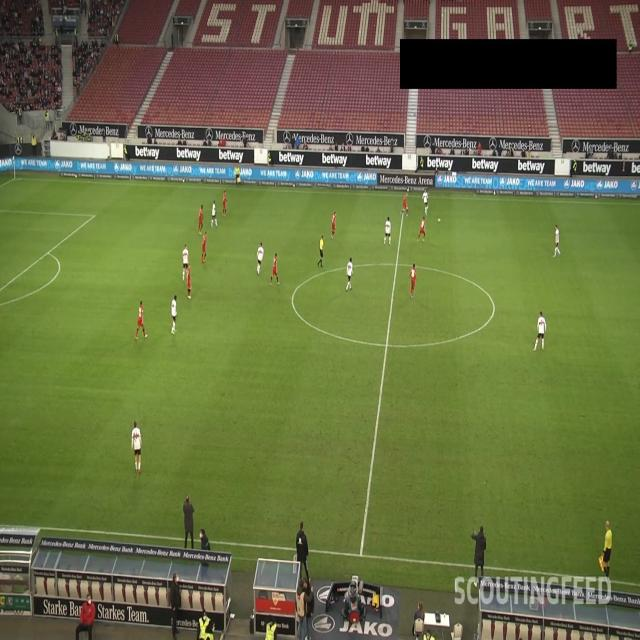ball: (437, 217, 441, 222)
